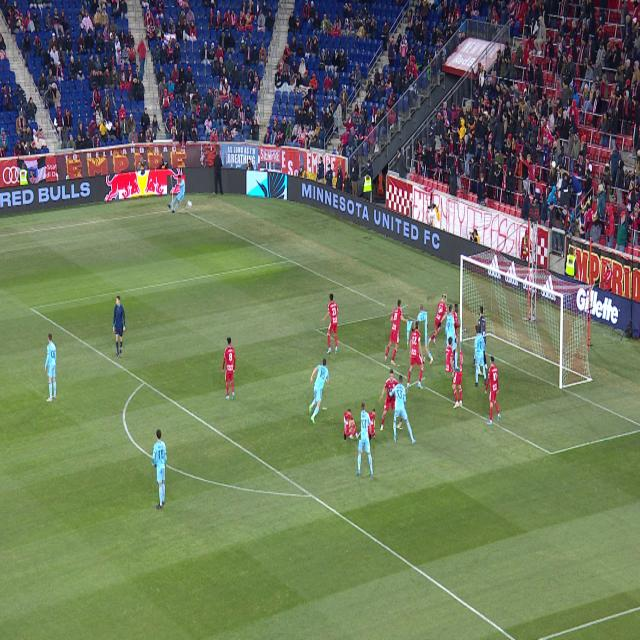football: (187, 200, 192, 207)
goalkeeper: (478, 305, 488, 370)
player: (389, 375, 416, 444), (355, 402, 375, 477), (385, 300, 408, 365), (309, 359, 329, 425), (416, 304, 437, 365), (379, 369, 399, 431), (407, 321, 425, 389), (485, 355, 501, 425), (322, 293, 339, 354), (428, 294, 447, 348), (153, 430, 166, 508), (447, 305, 460, 372), (451, 337, 463, 408), (45, 333, 57, 403), (222, 337, 235, 400), (473, 325, 486, 387), (168, 175, 185, 213), (344, 409, 361, 440), (447, 304, 455, 344), (397, 418, 402, 428), (479, 366, 483, 376), (452, 350, 454, 367), (360, 425, 362, 438), (406, 388, 407, 392)
referee: (113, 296, 125, 357)
